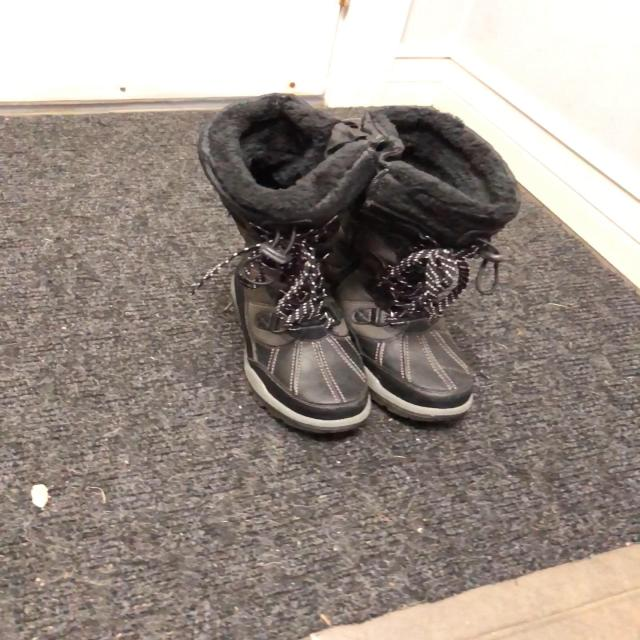shoe: (237, 248, 369, 434), (339, 244, 476, 410)
